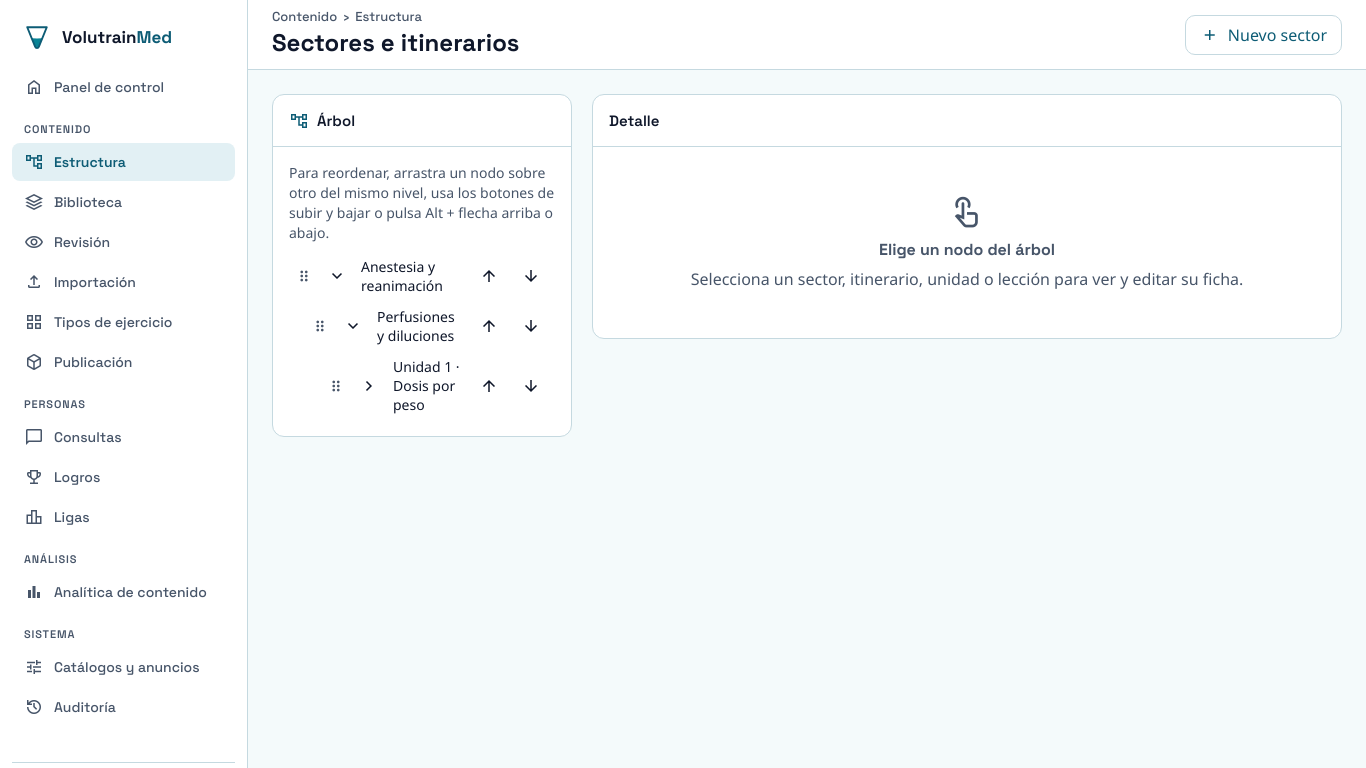
Test: B04 · estructura del contenido › Lección sin ejercicios: el back office lo impide e indica qué falta
Click the button named "Desplegar Dosis por peso" at x=369, y=386, box [351,368,387,404]
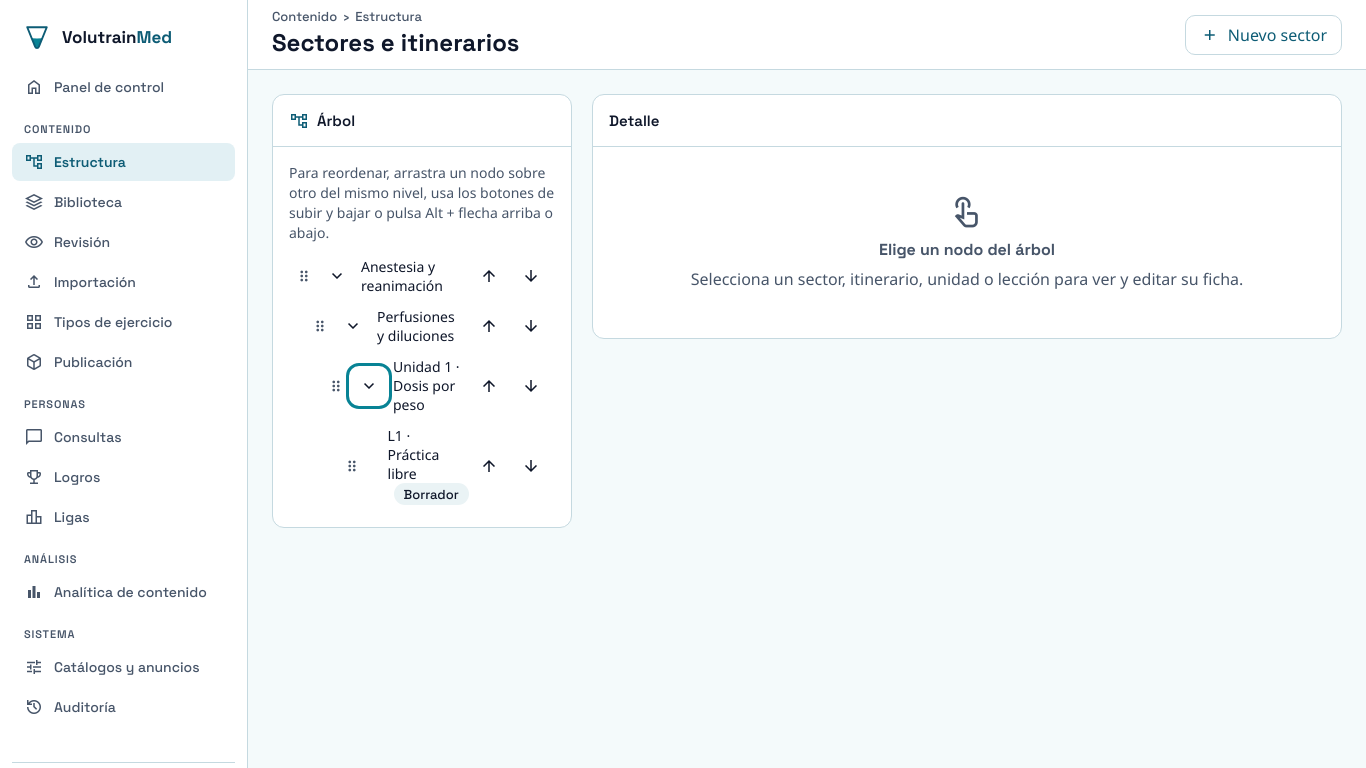
Click the button "L1 · Práctica libre Borrador" at x=426, y=466, box [388,420,465,511]
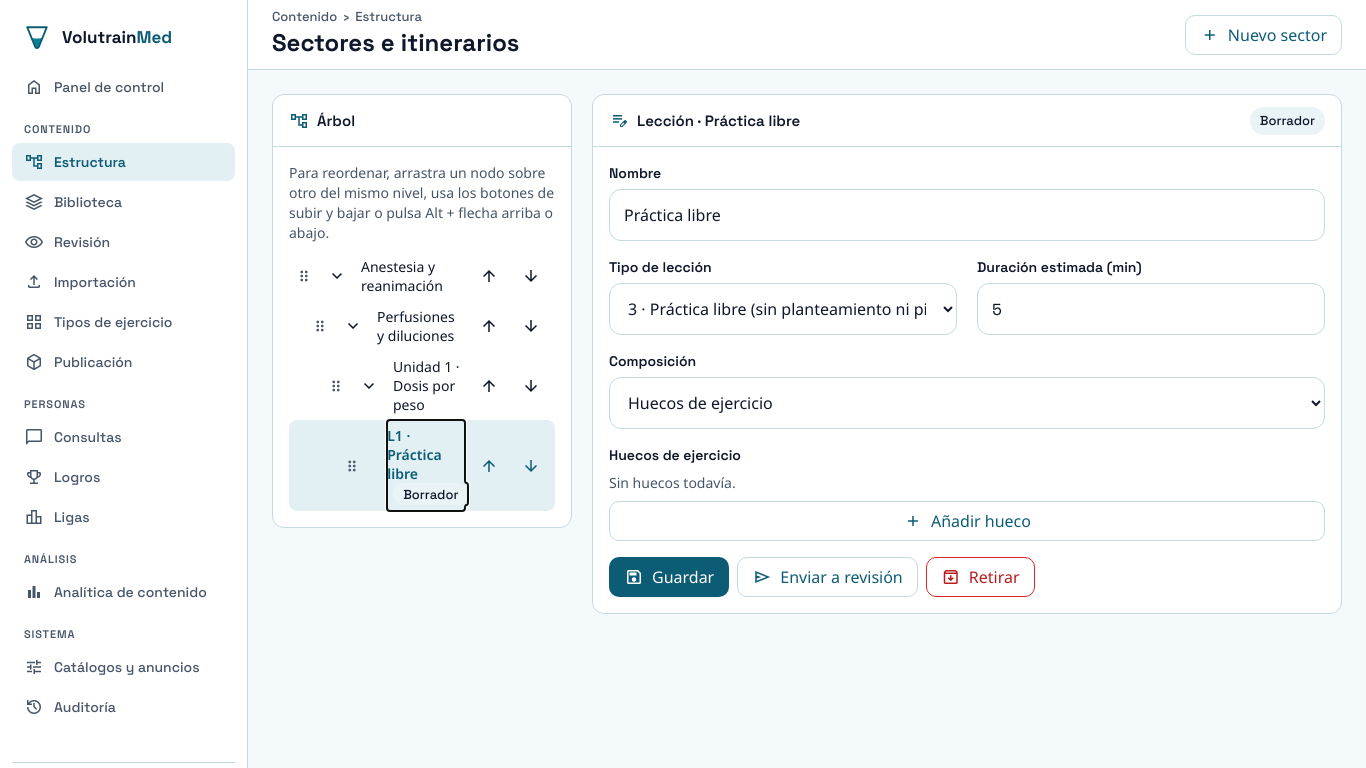
Click the button "Enviar a revisión" at x=827, y=577, box [737,557,918,597]
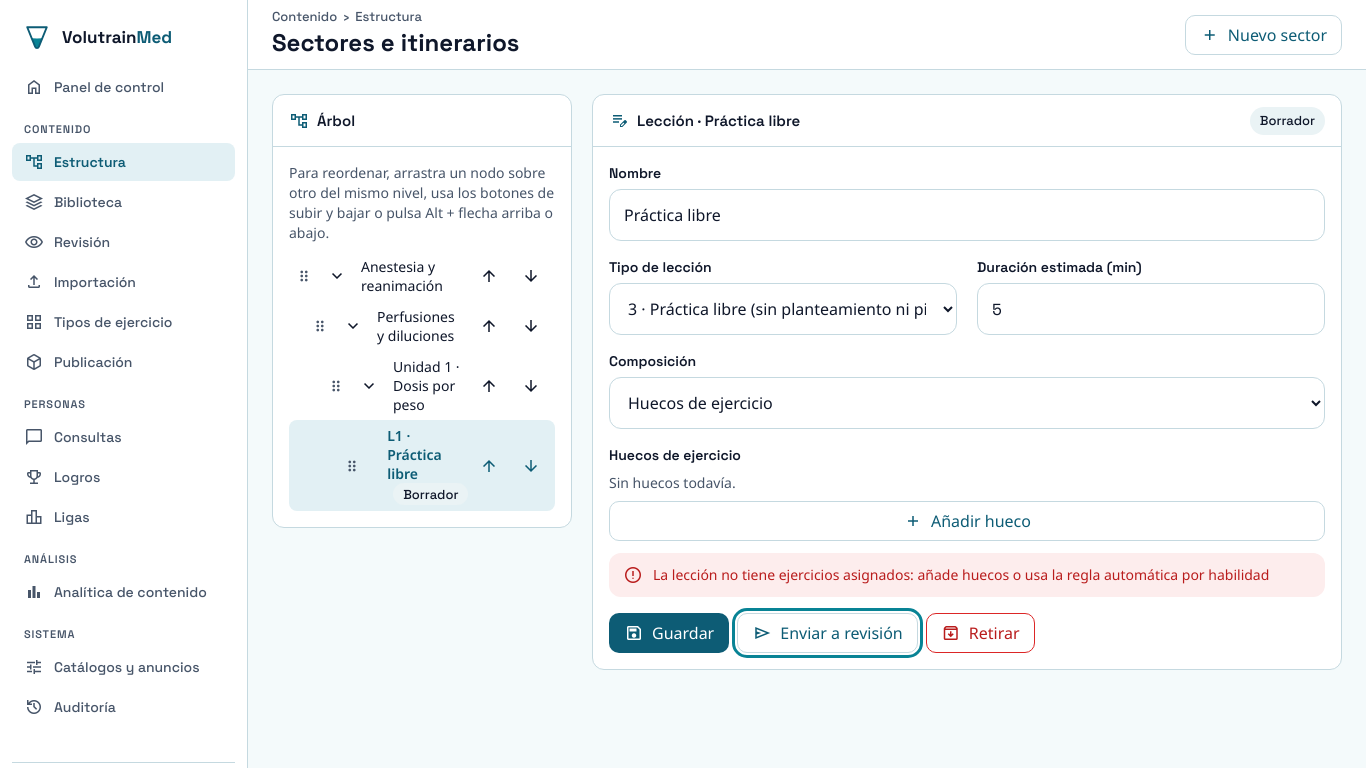
Expected: the message shows "La lección no tiene ejercicios asignados: añade huecos o usa la regla automática por habilidad", [653,565,1269,584]
